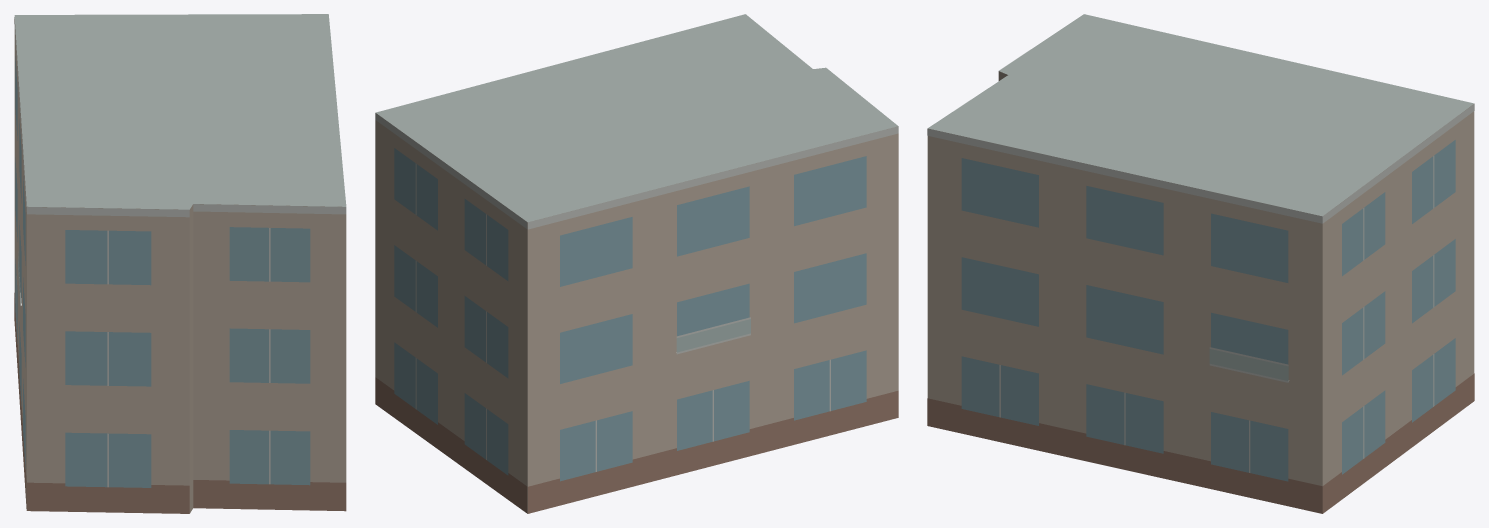
The model's file is survey-upis-32740428.glb.
3 views of the same model, side by side, from view 1: azimuth 30°, elevation 25°; view 2: azimuth 150°, elevation 25°; view 3: azimuth 270°, elevation 25° (orthographic). The views are drawn at different scales.
Visible parts, largest first — view 1: survey-upis-32740428.tmp; view 2: survey-upis-32740428.tmp; view 3: survey-upis-32740428.tmp.
Boxes of the visible parts, x1,y1,x2,y2 form: survey-upis-32740428.tmp: (14, 14, 346, 513); survey-upis-32740428.tmp: (375, 14, 898, 513); survey-upis-32740428.tmp: (927, 14, 1474, 513).
Bounding box in the file's own units: 14.3 × 9.8 × 16.34.
